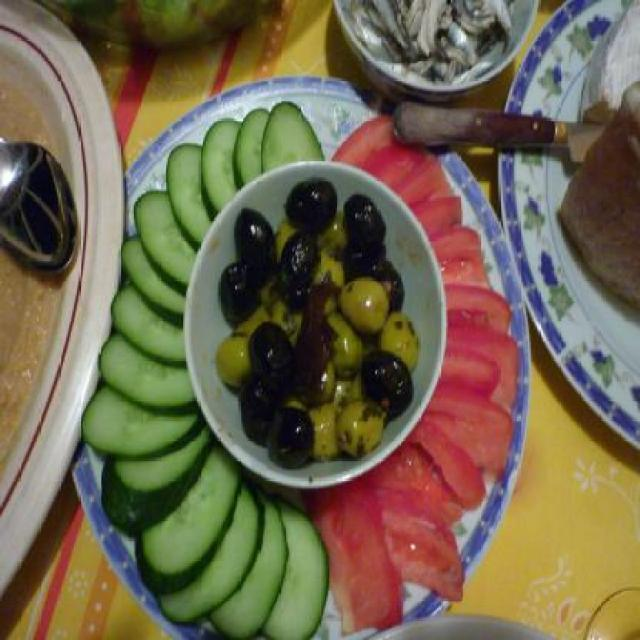Zucchini: (78, 100, 336, 634), (255, 97, 328, 175)
